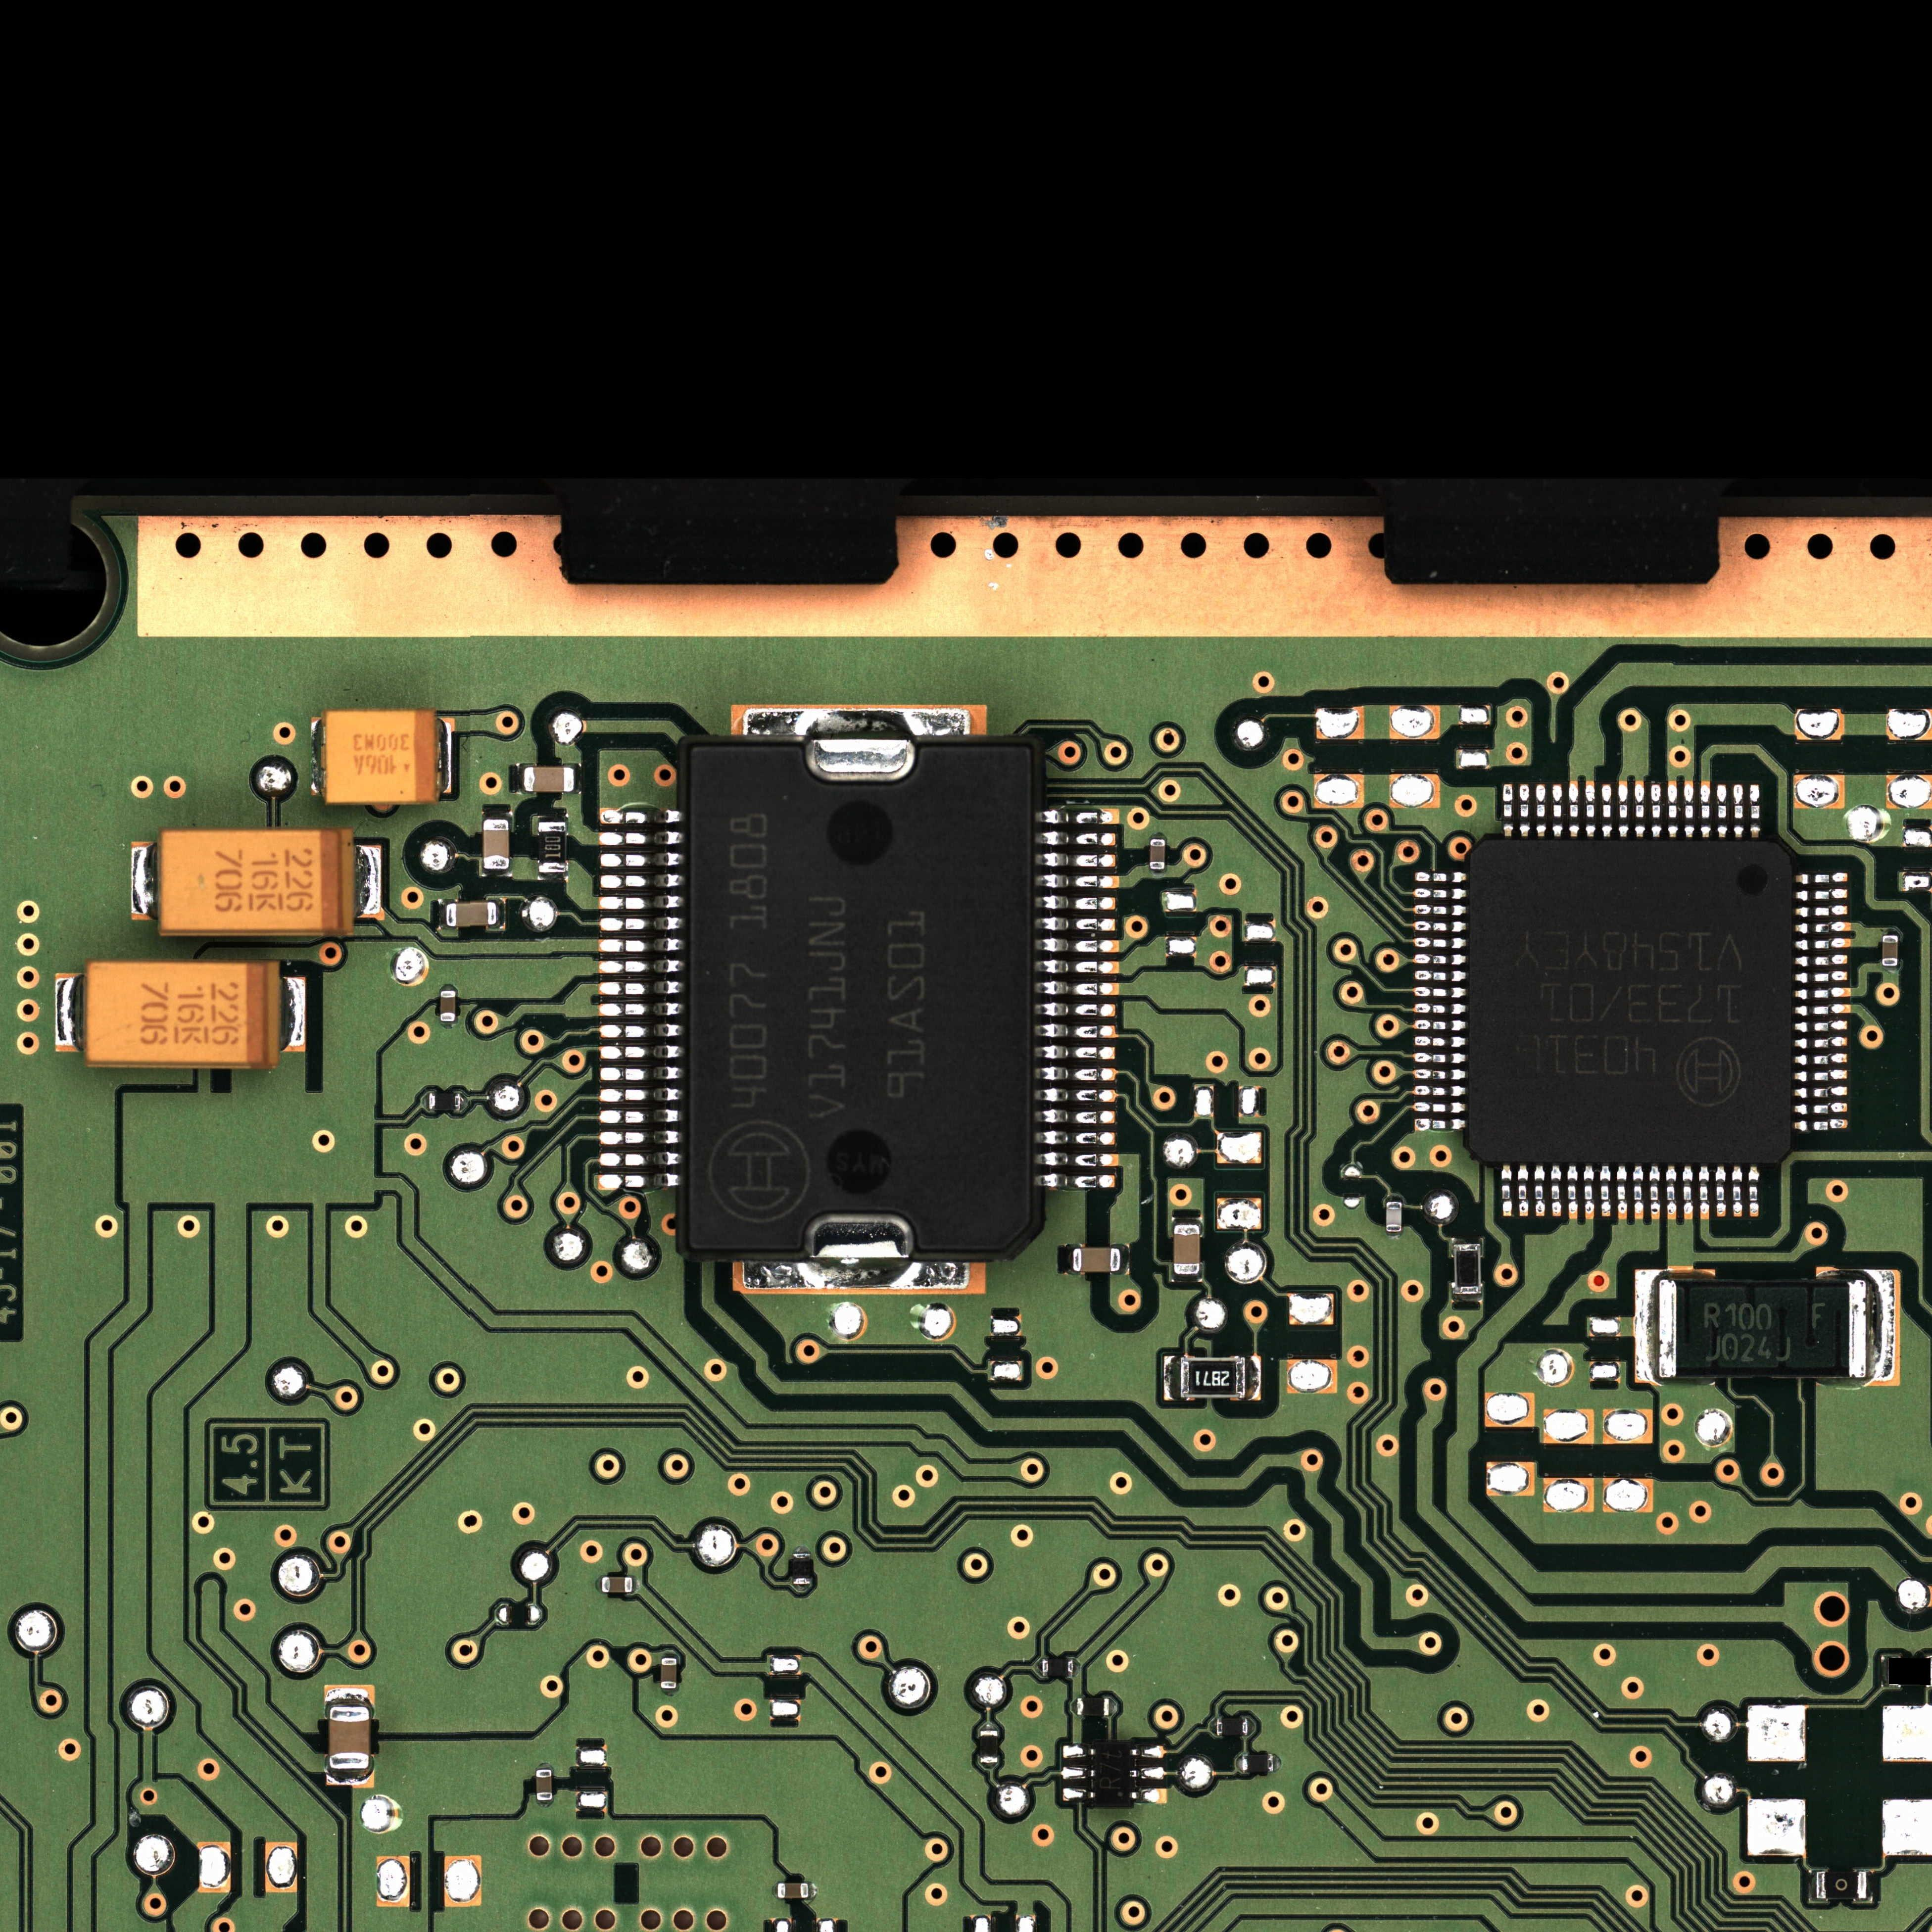Package: (690, 745, 1030, 1249), (1468, 839, 1792, 1164), (1658, 1279, 1865, 1376), (87, 961, 280, 1063), (161, 830, 352, 931), (326, 709, 437, 801), (1180, 1357, 1246, 1398), (329, 1707, 370, 1769), (1095, 1743, 1129, 1806), (538, 823, 566, 872), (1817, 1872, 1867, 1900), (524, 766, 573, 793), (483, 819, 510, 869), (1454, 1244, 1481, 1293), (1173, 1224, 1200, 1274), (446, 902, 497, 927), (1072, 1247, 1120, 1272), (980, 1730, 998, 1764), (1042, 1660, 1074, 1677), (1077, 1698, 1109, 1716), (430, 1093, 460, 1111), (793, 1553, 810, 1583), (1242, 1755, 1272, 1773), (1217, 1718, 1247, 1736), (777, 1882, 809, 1898), (441, 991, 456, 1021), (536, 1769, 552, 1799), (602, 1576, 632, 1592), (1150, 839, 1166, 869), (1882, 936, 1898, 966), (1385, 1201, 1401, 1231), (662, 1658, 676, 1688)
Solder: (741, 1260, 970, 1290), (743, 708, 971, 736), (1867, 1270, 1895, 1385), (1635, 1270, 1660, 1384), (57, 973, 85, 1053), (131, 842, 159, 920), (354, 846, 382, 918), (280, 977, 304, 1051), (1035, 1023, 1116, 1040), (598, 916, 685, 932), (598, 938, 685, 954), (598, 959, 685, 975), (598, 1001, 685, 1017), (598, 1023, 685, 1039), (600, 853, 685, 869), (598, 980, 683, 996), (598, 1086, 683, 1102), (1035, 938, 1120, 954), (1035, 959, 1120, 975), (600, 809, 683, 824), (600, 895, 683, 911), (598, 1173, 681, 1189), (598, 1152, 681, 1168), (600, 1109, 683, 1125), (600, 1044, 683, 1060), (1035, 874, 1118, 890), (1033, 1152, 1116, 1168), (1033, 1173, 1116, 1189), (1033, 1109, 1116, 1125), (1035, 980, 1118, 996), (1033, 1131, 1116, 1146), (1037, 809, 1118, 824), (1035, 853, 1116, 869), (1035, 916, 1116, 932), (1035, 1001, 1116, 1017), (1035, 1088, 1116, 1104), (1035, 1067, 1116, 1083), (1037, 895, 1115, 911), (600, 874, 685, 888), (600, 1067, 685, 1081), (598, 1131, 683, 1145), (437, 718, 453, 793), (600, 832, 683, 846), (1035, 1046, 1116, 1060), (326, 1684, 375, 1707), (1037, 832, 1116, 846), (311, 718, 324, 794), (326, 1769, 373, 1787), (1246, 1355, 1261, 1401), (1164, 1355, 1180, 1401), (1617, 780, 1629, 839), (1732, 784, 1744, 840), (1667, 782, 1679, 839), (1794, 938, 1851, 950), (1794, 987, 1851, 1000), (1794, 1003, 1851, 1016), (1412, 904, 1467, 916), (1794, 872, 1849, 885), (1794, 888, 1849, 901), (1414, 920, 1467, 932), (1414, 954, 1467, 966), (1414, 970, 1467, 982), (1414, 1069, 1467, 1081), (1414, 1085, 1467, 1097), (1414, 1003, 1467, 1016), (1414, 1019, 1467, 1031), (1414, 1035, 1467, 1047), (1599, 1164, 1612, 1217), (1794, 1053, 1847, 1065), (1794, 1086, 1847, 1099), (1794, 1102, 1847, 1115), (1794, 1037, 1847, 1049), (1415, 1118, 1467, 1131), (1684, 780, 1695, 839), (1635, 780, 1645, 839), (1700, 782, 1711, 839), (1716, 784, 1727, 840), (1651, 782, 1661, 839), (1601, 782, 1612, 839), (1585, 782, 1596, 839), (1569, 782, 1580, 839), (1794, 922, 1851, 932), (1667, 1164, 1677, 1221), (1683, 1164, 1693, 1221), (1536, 784, 1546, 839), (1552, 784, 1562, 839), (1520, 784, 1530, 839), (1794, 906, 1849, 916), (1794, 955, 1849, 966), (1502, 784, 1513, 839), (1794, 971, 1849, 982), (1750, 784, 1760, 839), (1649, 1164, 1660, 1219), (1633, 1164, 1644, 1219), (1617, 1164, 1628, 1219), (1583, 1164, 1594, 1219), (1568, 1164, 1578, 1219), (1698, 1164, 1709, 1219), (1794, 1021, 1849, 1031), (1414, 938, 1467, 948), (1414, 872, 1467, 883), (1414, 888, 1467, 899), (1414, 1102, 1467, 1113), (1414, 987, 1467, 998), (1414, 1053, 1467, 1063), (1794, 1070, 1847, 1081), (1534, 1164, 1545, 1217), (1552, 1164, 1562, 1217), (1794, 1120, 1847, 1131), (1716, 1164, 1727, 1217), (1732, 1164, 1743, 1217), (1748, 1164, 1759, 1217), (1502, 1164, 1513, 1215), (1518, 1164, 1529, 1215), (1131, 1789, 1166, 1803), (1063, 1787, 1095, 1801), (1129, 1746, 1164, 1759), (1129, 1767, 1164, 1780), (1062, 1767, 1095, 1780), (1063, 1744, 1095, 1757), (1877, 1654, 1888, 1690), (481, 810, 513, 819), (536, 814, 568, 823), (481, 869, 511, 878), (497, 899, 506, 929), (538, 872, 568, 881), (1171, 1274, 1201, 1283), (1120, 1244, 1129, 1274), (1808, 1870, 1817, 1900), (575, 763, 582, 794), (1171, 1217, 1203, 1224), (439, 899, 446, 929), (517, 764, 524, 794), (1065, 1244, 1072, 1274), (1453, 1237, 1483, 1244), (1453, 1295, 1483, 1302), (1867, 1870, 1874, 1900), (978, 1762, 998, 1771), (660, 1688, 678, 1697), (793, 1583, 810, 1592), (536, 1799, 554, 1808), (1385, 1231, 1403, 1240), (1274, 1755, 1283, 1773), (1247, 1718, 1256, 1736), (809, 1882, 817, 1898), (632, 1576, 640, 1592), (770, 1882, 778, 1898), (1150, 869, 1166, 878), (1882, 927, 1898, 936), (460, 1093, 467, 1111), (793, 1546, 810, 1553), (660, 1651, 678, 1658), (1385, 1194, 1403, 1201), (1109, 1698, 1116, 1716), (980, 1723, 998, 1730), (1210, 1718, 1217, 1736), (1074, 1660, 1081, 1677), (441, 1021, 456, 1028), (441, 984, 456, 991), (536, 1762, 552, 1769), (594, 1576, 602, 1592), (1150, 832, 1166, 839), (1070, 1698, 1077, 1714), (1035, 1660, 1042, 1675), (1235, 1755, 1242, 1771), (1882, 966, 1898, 973), (423, 1093, 428, 1109)
